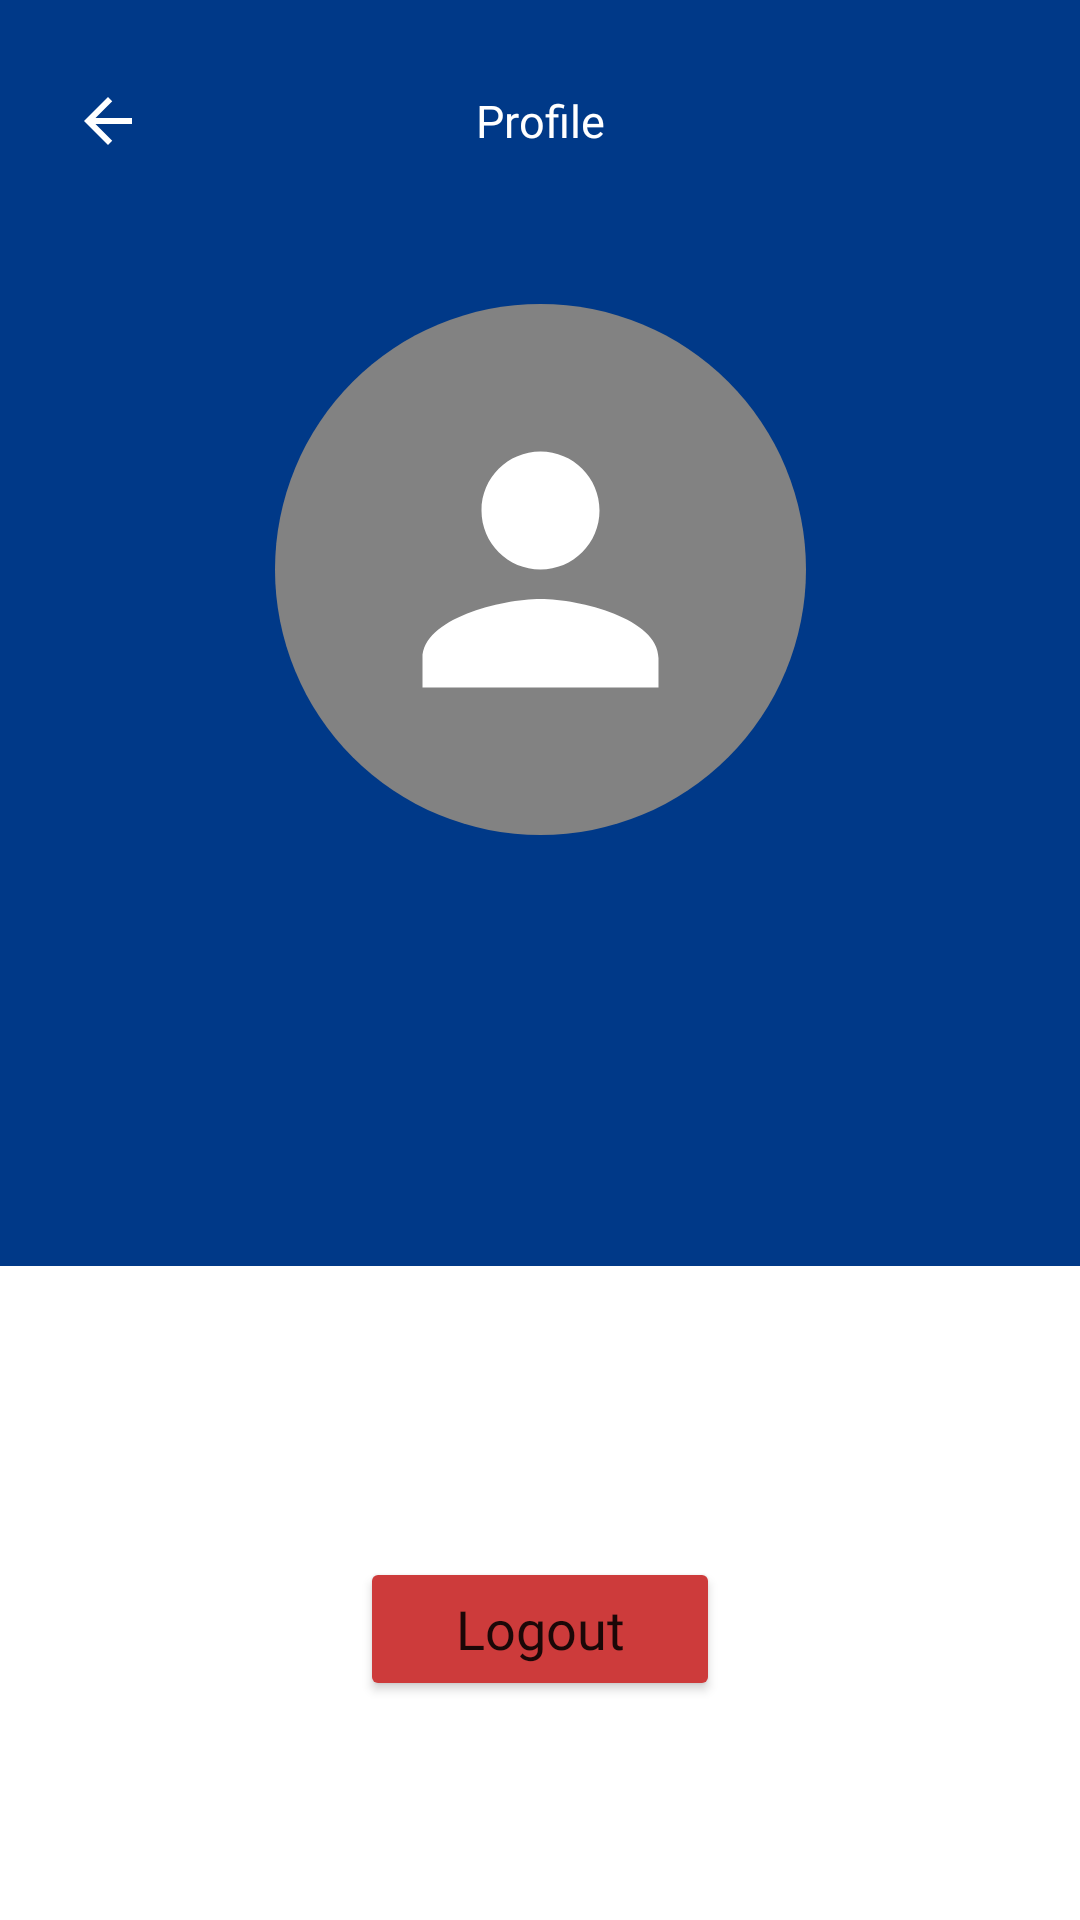

Where to tap for icons on this 1080*1920 app screen, as (x=x, y=y):
back: (x=108, y=121)
